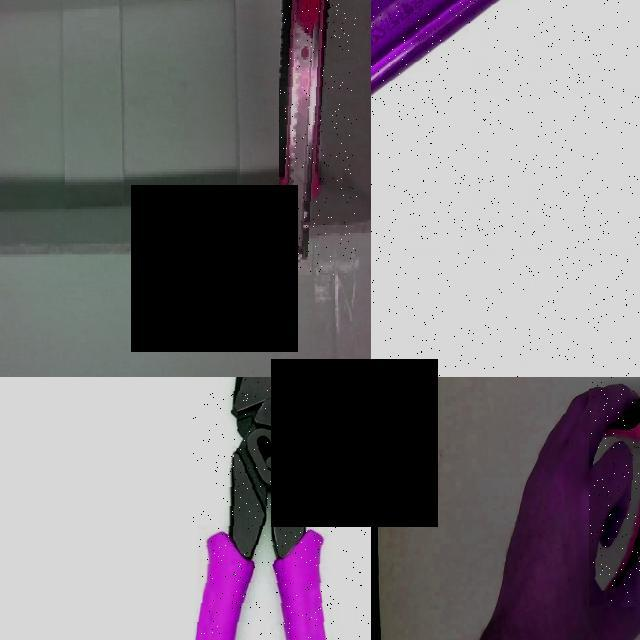estilete: (279, 0, 326, 256)
